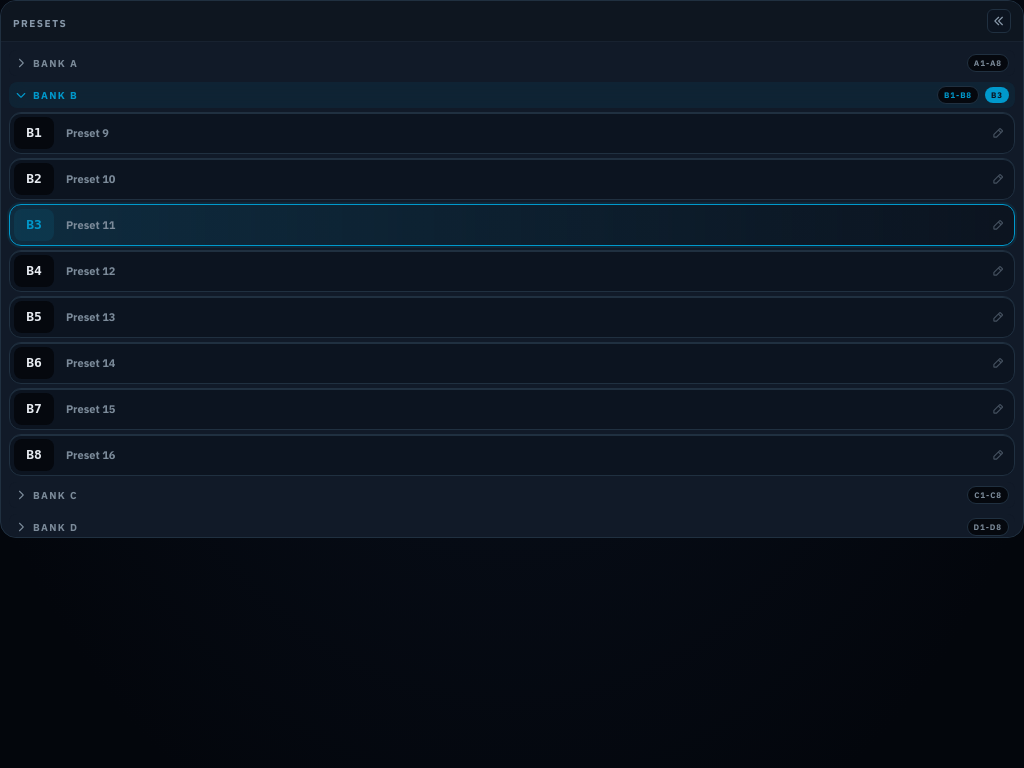
PresetRail bank folding › expands an inactive bank from its bank header
The image size is (1024, 768).
Step 1. Click the button "Bank A A1-A8" → (51, 63), box [9, 50, 1015, 76]
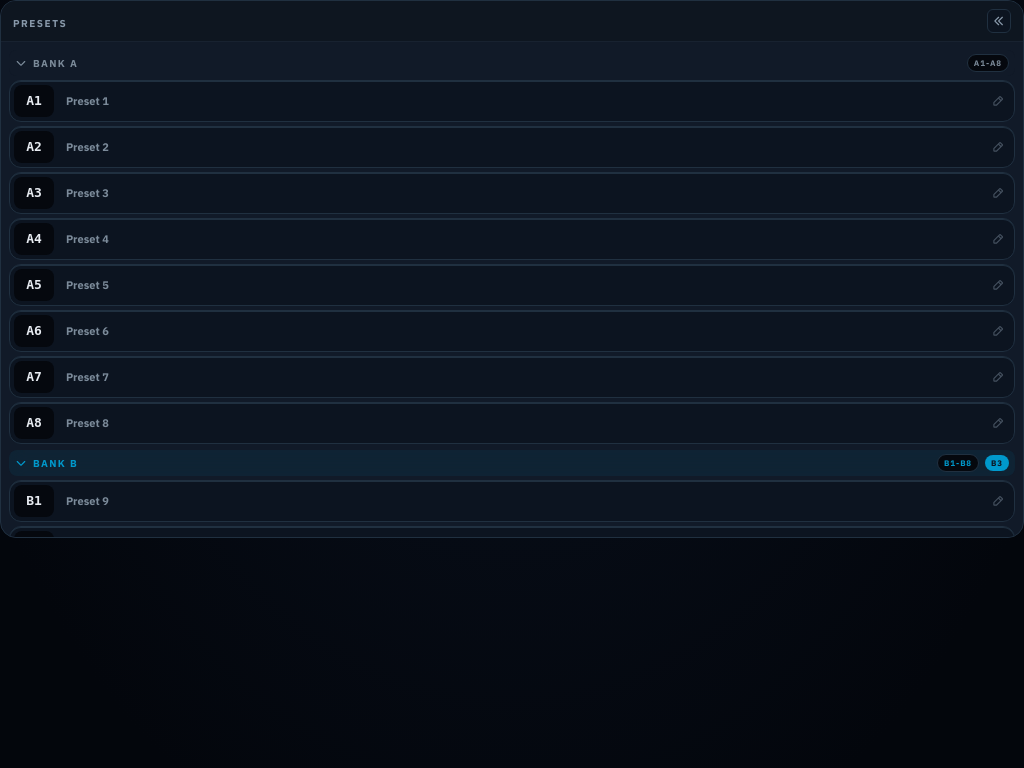
Expected: the button named "Recall A1" is shown, [14, 85, 54, 117]
Expected: the button "Bank A A1-A8" is expanded, [9, 50, 1015, 76]
